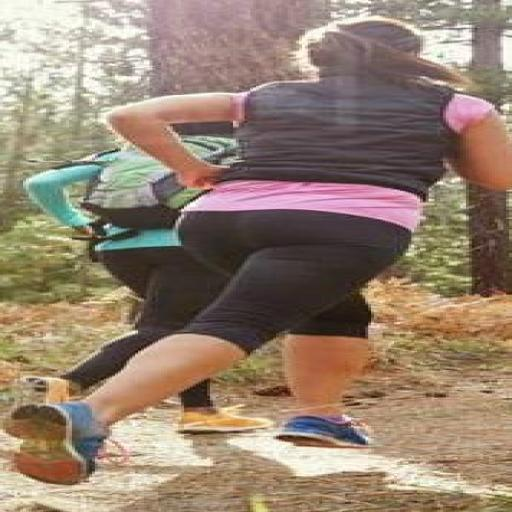person: (6, 18, 511, 484), (15, 222, 227, 402)
